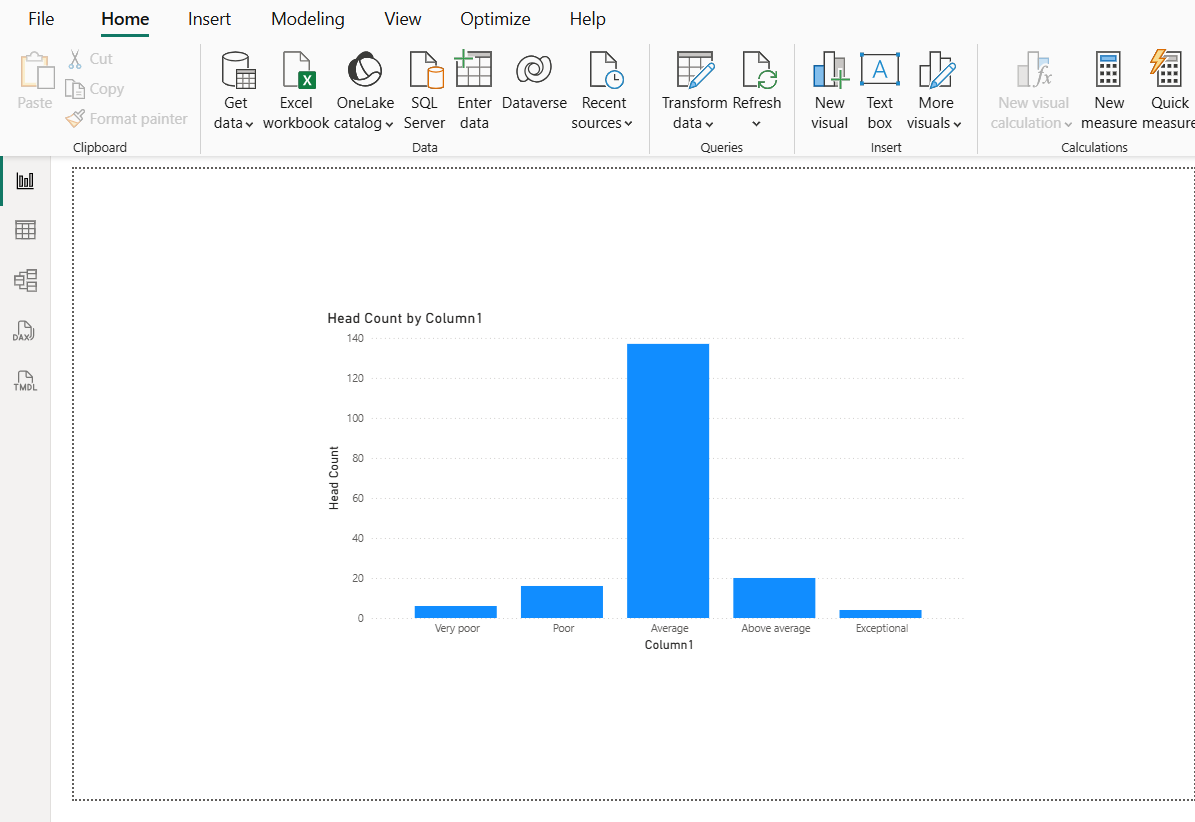

The dashboard page shown, as its layout file describes it:
{"tool":"powerbi","page":{"name":"Page 6","canvas":[1280,720],"ordinal":5},"visuals":[{"type":"columnChart","fields":{"Y":["Data.Head Count"],"Category":["field order.Column1"]},"box":[284.3,160,741.4,397.1],"z":0}]}

Visuals, with their boxes on the page's 1280x720 design canvas (x1, y1, x2, y2). These are canvas units, not pixel positions in the 1195x822 screenshot, which may show the page scaled, cropped or inside an application window:
columnChart - Data.Head Count x field order.Column1: 284:160:1026:557
